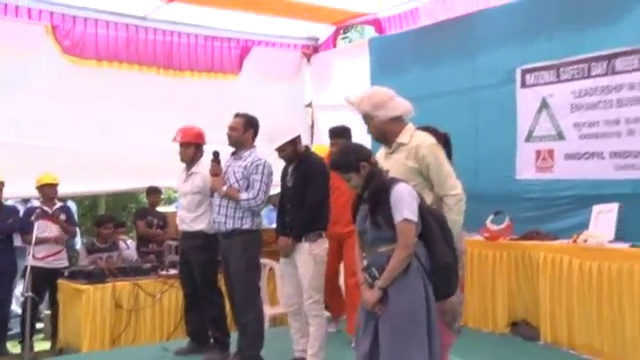helmet: (270, 126, 305, 152), (168, 125, 207, 147), (34, 172, 62, 189)
helmet_off: (356, 87, 416, 144), (335, 142, 381, 198), (222, 114, 260, 157), (327, 131, 355, 168), (93, 216, 116, 242), (146, 187, 163, 212)
helmet_on: (170, 125, 206, 166), (270, 126, 306, 167), (33, 171, 62, 208)
person: (331, 143, 459, 360), (355, 84, 466, 247), (265, 127, 335, 359), (208, 112, 273, 360), (169, 125, 231, 359), (318, 126, 378, 326), (19, 171, 78, 360), (0, 173, 24, 357), (76, 212, 132, 270), (134, 187, 170, 261)
